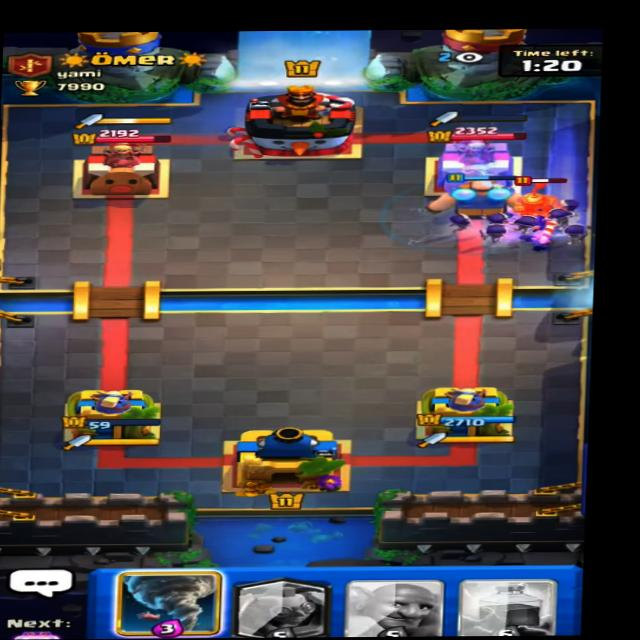prince: (501, 170, 570, 240)
